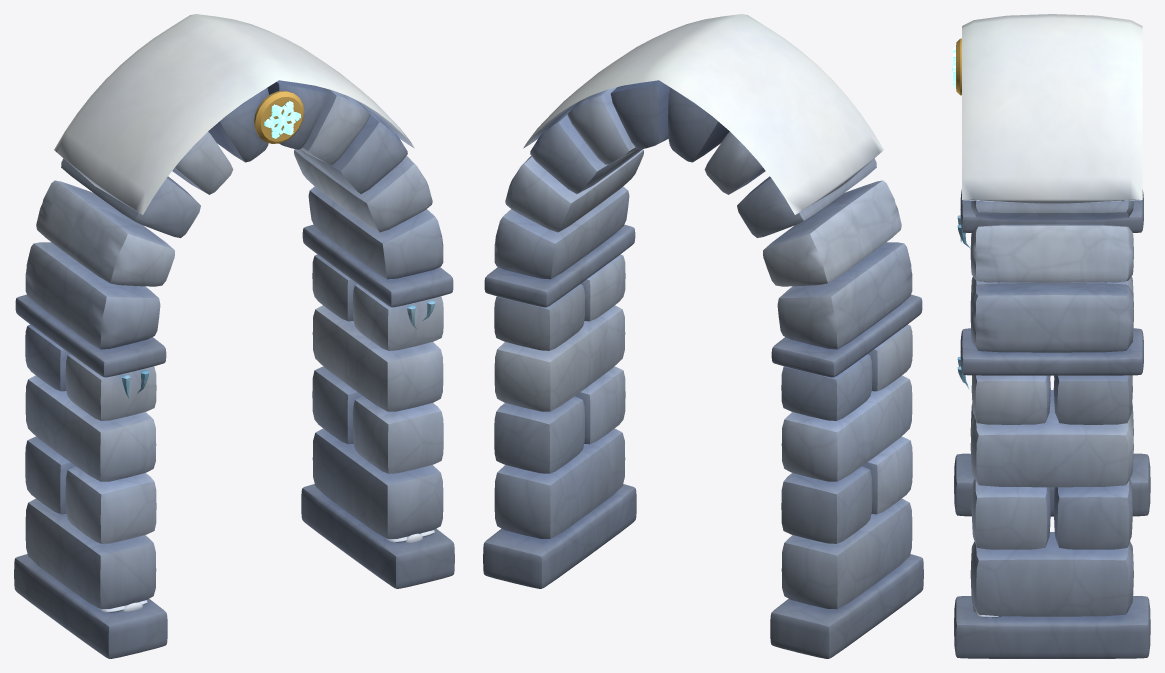
File: FP_G02_GoalArch.fbx
3 views of the same model, side by side, from view 1: azimuth 30°, elevation 25°; view 2: azimuth 150°, elevation 25°; view 3: azimuth 270°, elevation 25° (orthographic).
Visible parts, largest first — view 1: Arch, Frame_L, Frame_R, SnowCap; view 2: Arch, Frame_L, Frame_R, SnowCap; view 3: Frame_R, SnowCap, Arch, Frame_L.
Boxes of the visible parts, x1,y1,x2,y2 form: Arch: (25, 80, 443, 349); Frame_L: (14, 294, 167, 658); Frame_R: (301, 224, 454, 588); SnowCap: (54, 14, 414, 214); Arch: (494, 80, 912, 349); Frame_L: (770, 294, 923, 658); Frame_R: (483, 224, 636, 588); SnowCap: (523, 14, 883, 214); Frame_R: (954, 328, 1150, 658); SnowCap: (962, 14, 1142, 204); Arch: (952, 38, 1133, 352); Frame_L: (954, 189, 1150, 516).
Size of the model in its own units: 2.52 by 3.74 by 1.21.
